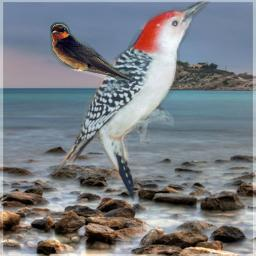Swallow: (50, 22, 135, 82)
Woodpecker: (53, 1, 211, 206)
